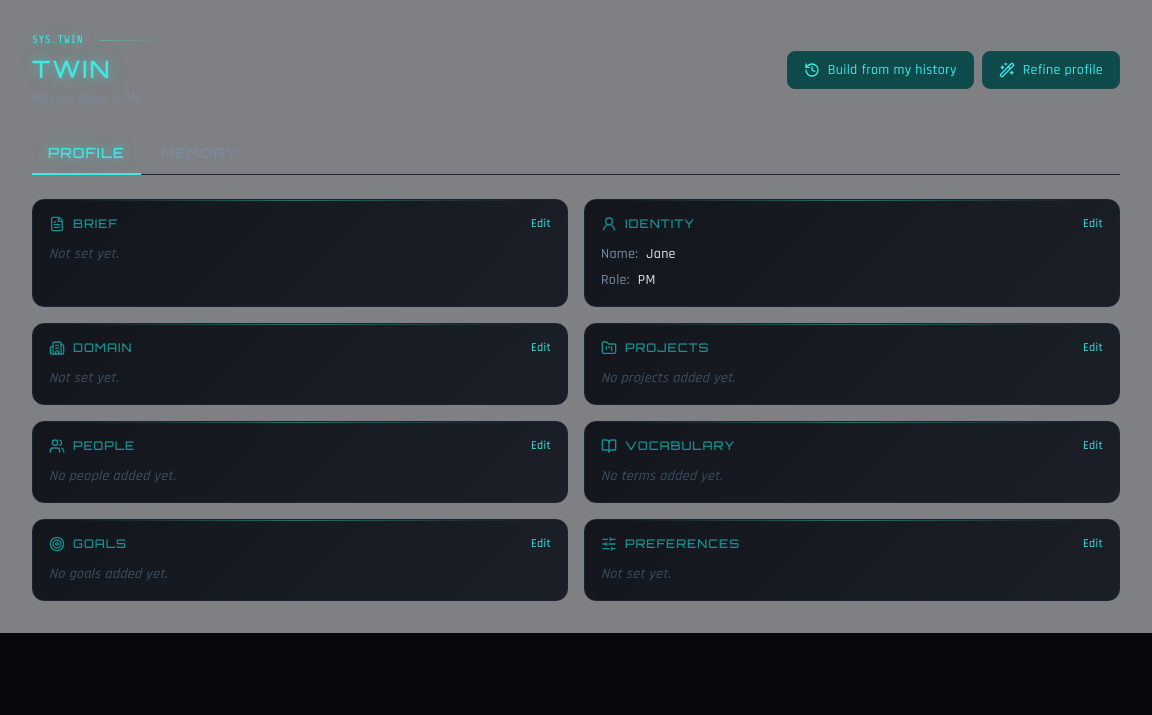
TwinPage — "Build from my history" entry › offers it in the header of a populated profile and opens the wizard
The width and height of the screenshot is (1152, 715).
Check: the text "Mirrors Jane — PM" is shown, box [32,90,141,108]
Click the button "Build from my history" at [880, 70], box [787,51,974,89]
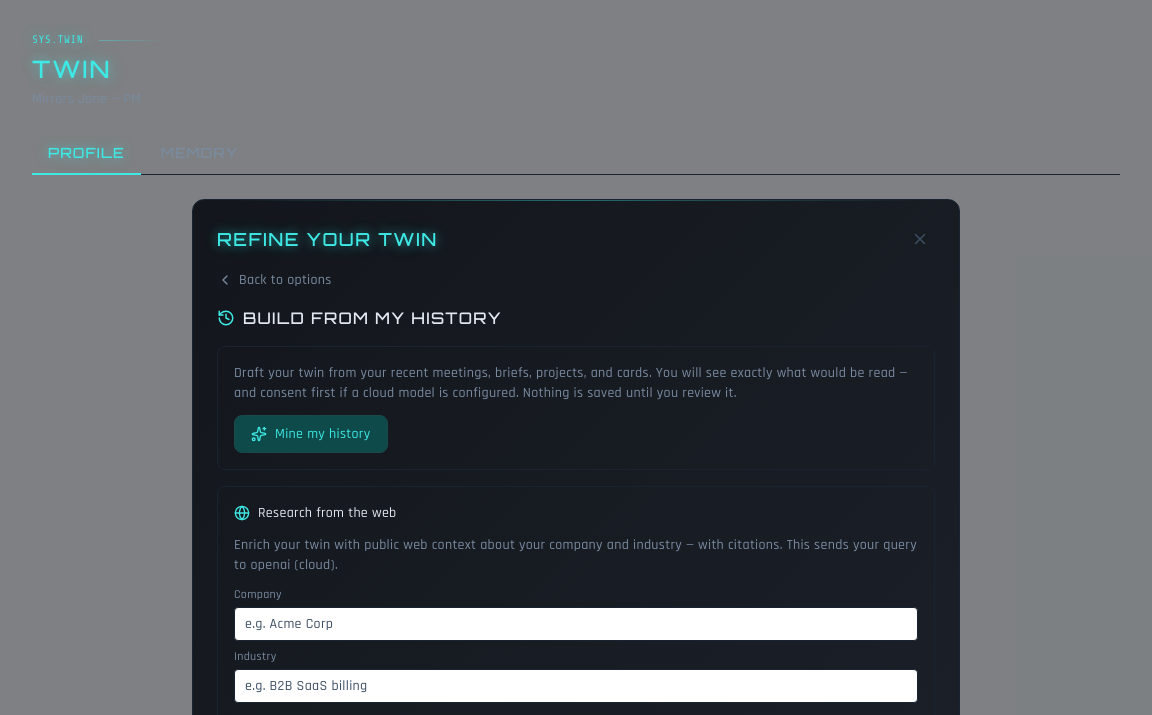
Check: the heading "Refine your twin" is shown, box [217,224,438,252]
